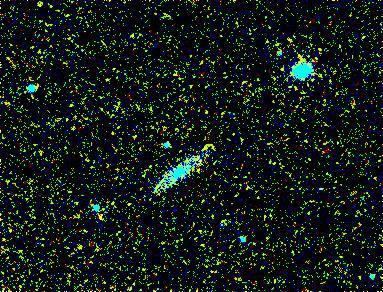star: (194, 132, 224, 162)
